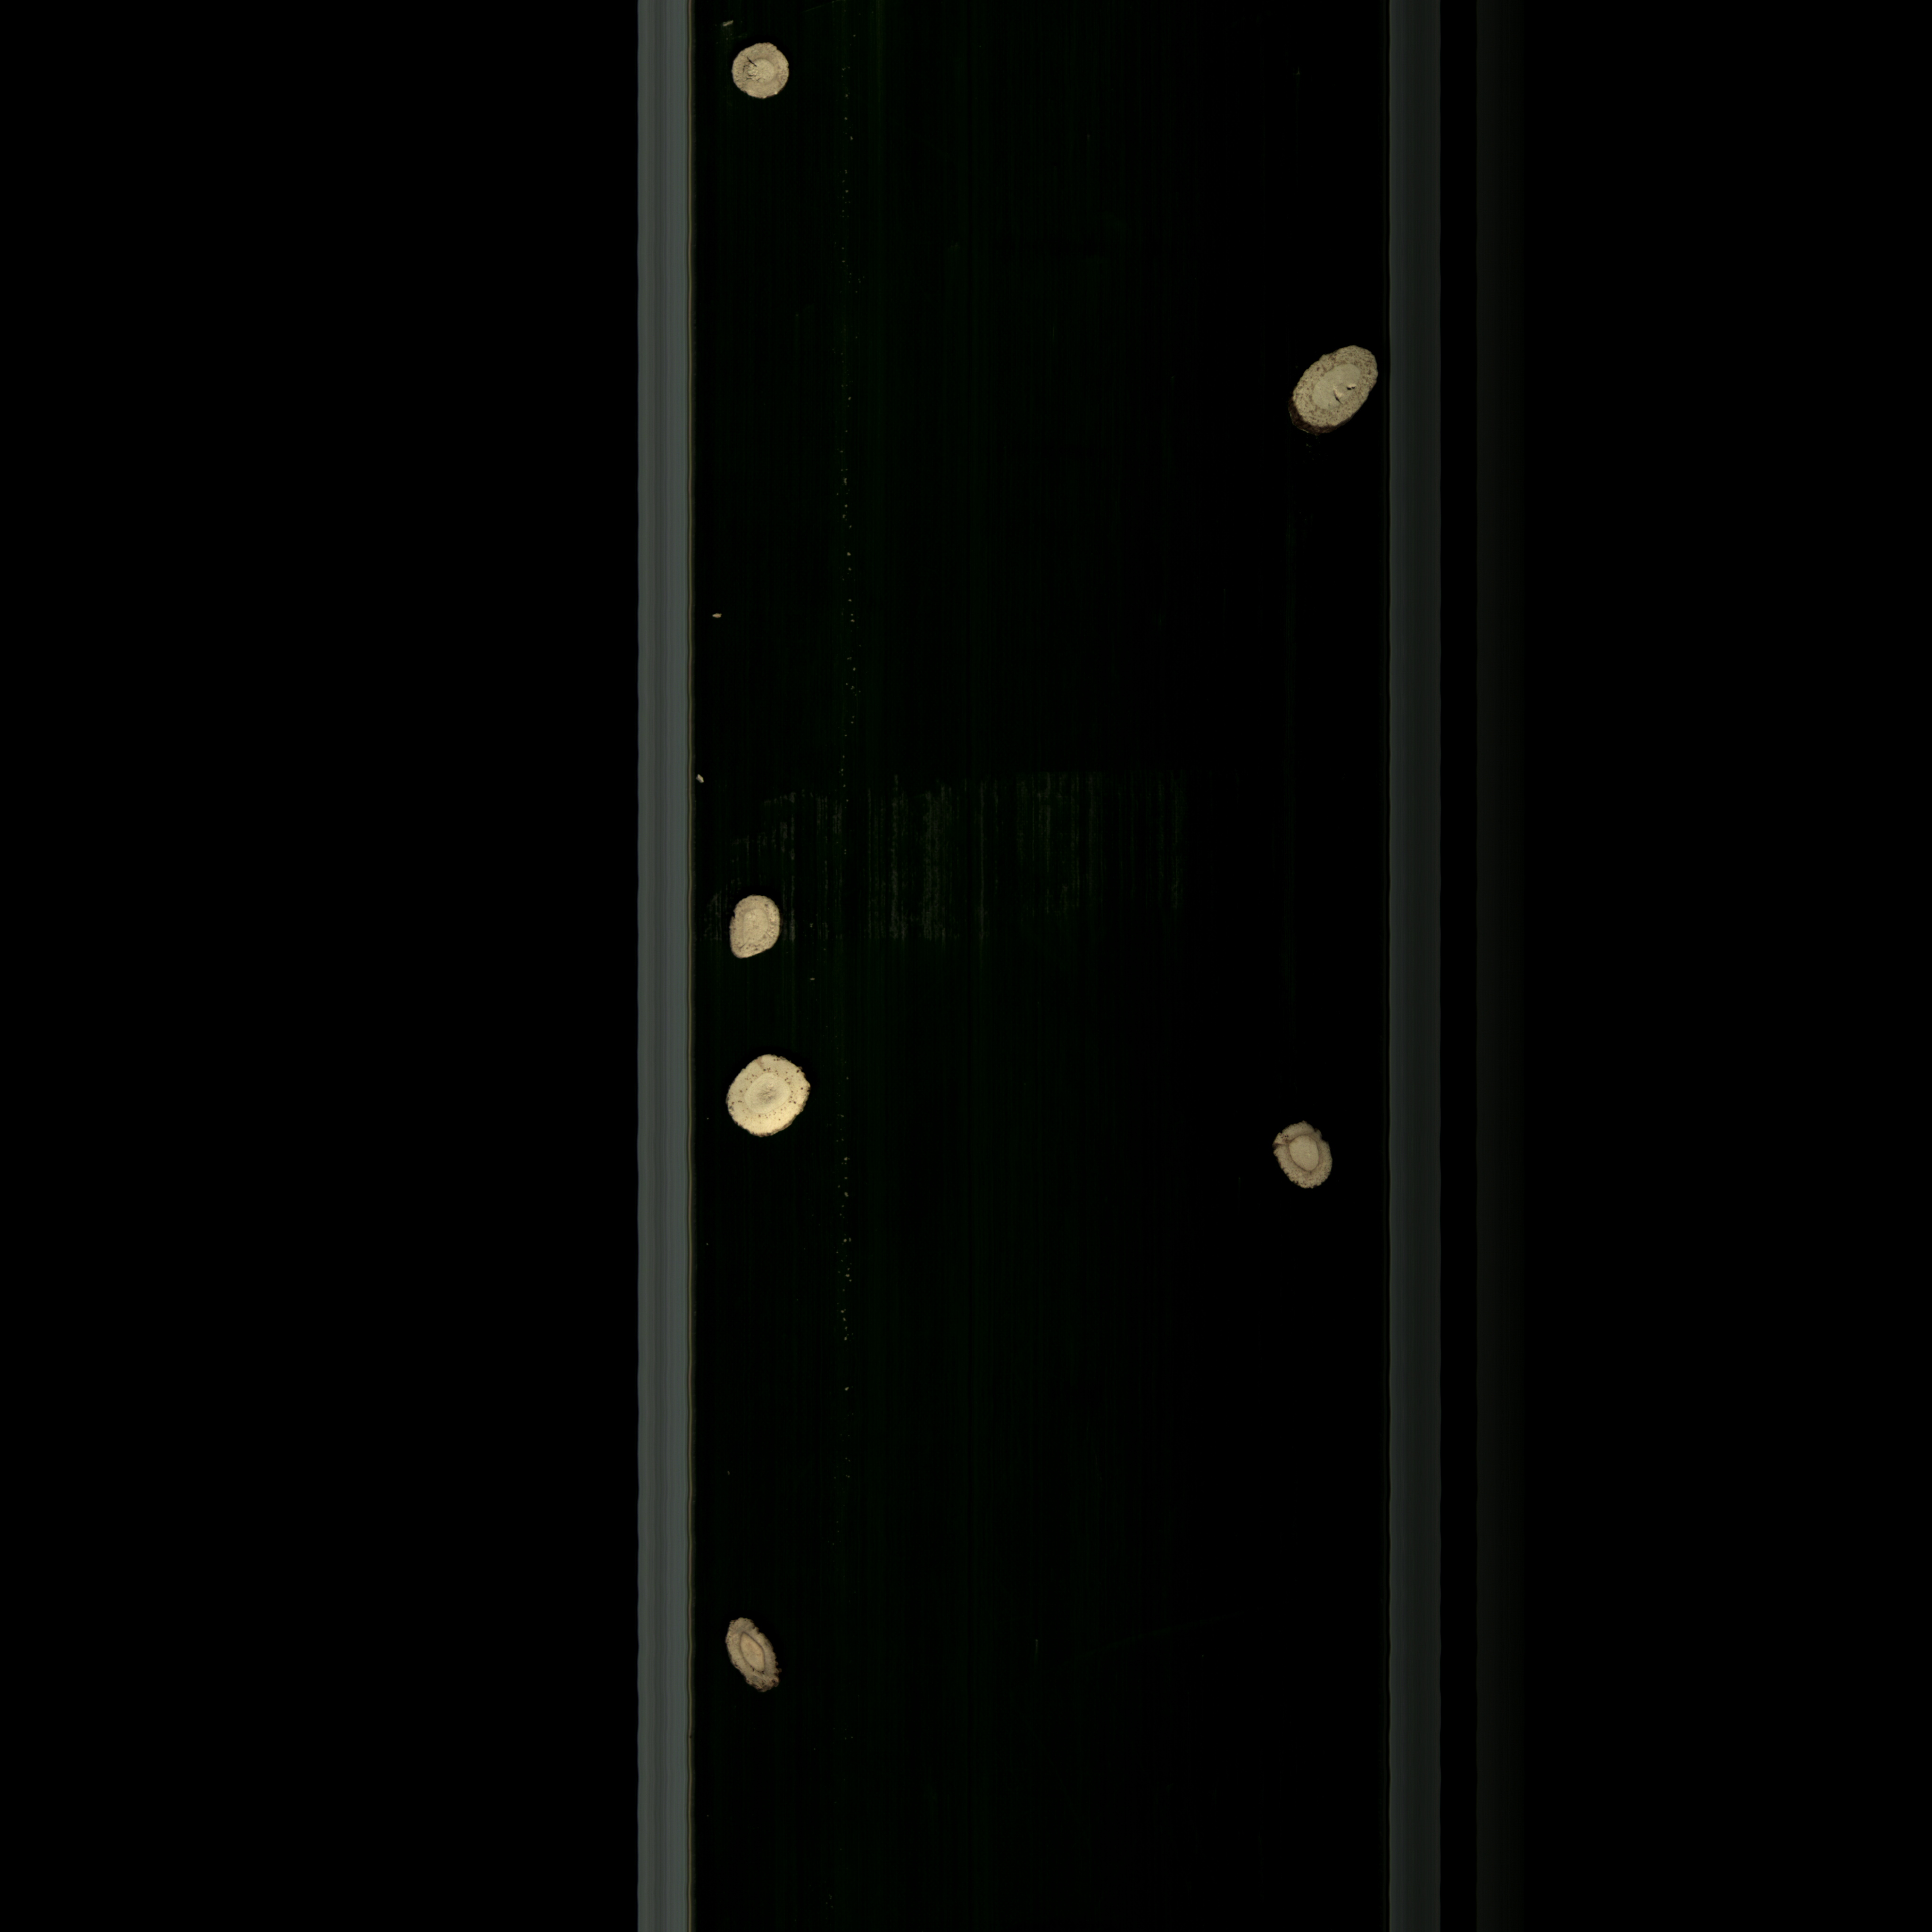distortion: (718, 892, 787, 966)
dreg: (702, 605, 734, 628), (697, 768, 713, 794)
hole: (1279, 343, 1382, 441), (720, 41, 801, 117)
moldy: (715, 1608, 791, 1706), (1269, 1120, 1350, 1207)
